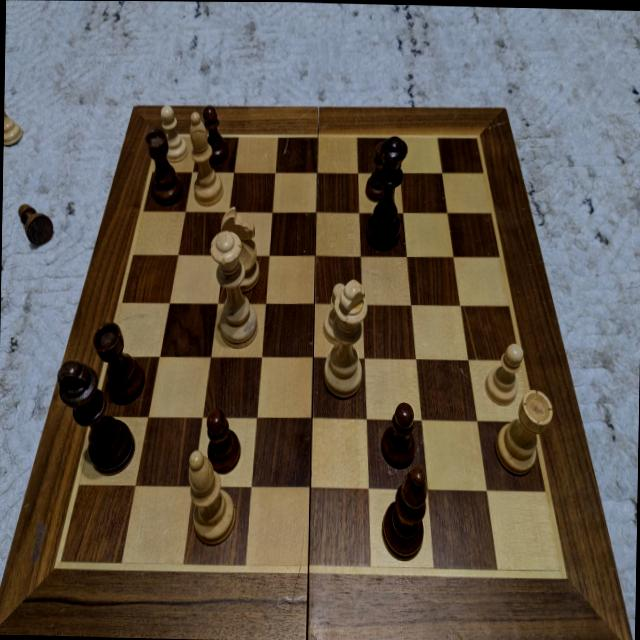black_bishop: (380, 464, 428, 559)
black_king: (58, 359, 136, 472)
black_pawn: (204, 408, 241, 472), (380, 399, 414, 468), (201, 104, 229, 165), (364, 138, 390, 200)
black_queen: (362, 134, 407, 250)
black_rook: (92, 324, 146, 404), (144, 125, 184, 205)
white_bishop: (186, 448, 236, 545), (187, 109, 225, 207)
white_king: (321, 279, 366, 396)
white_knight: (216, 205, 260, 292)
white_pawn: (484, 341, 524, 402), (158, 107, 188, 164), (322, 282, 349, 345)
white_queen: (210, 229, 259, 347)
white_rook: (494, 384, 554, 476)
